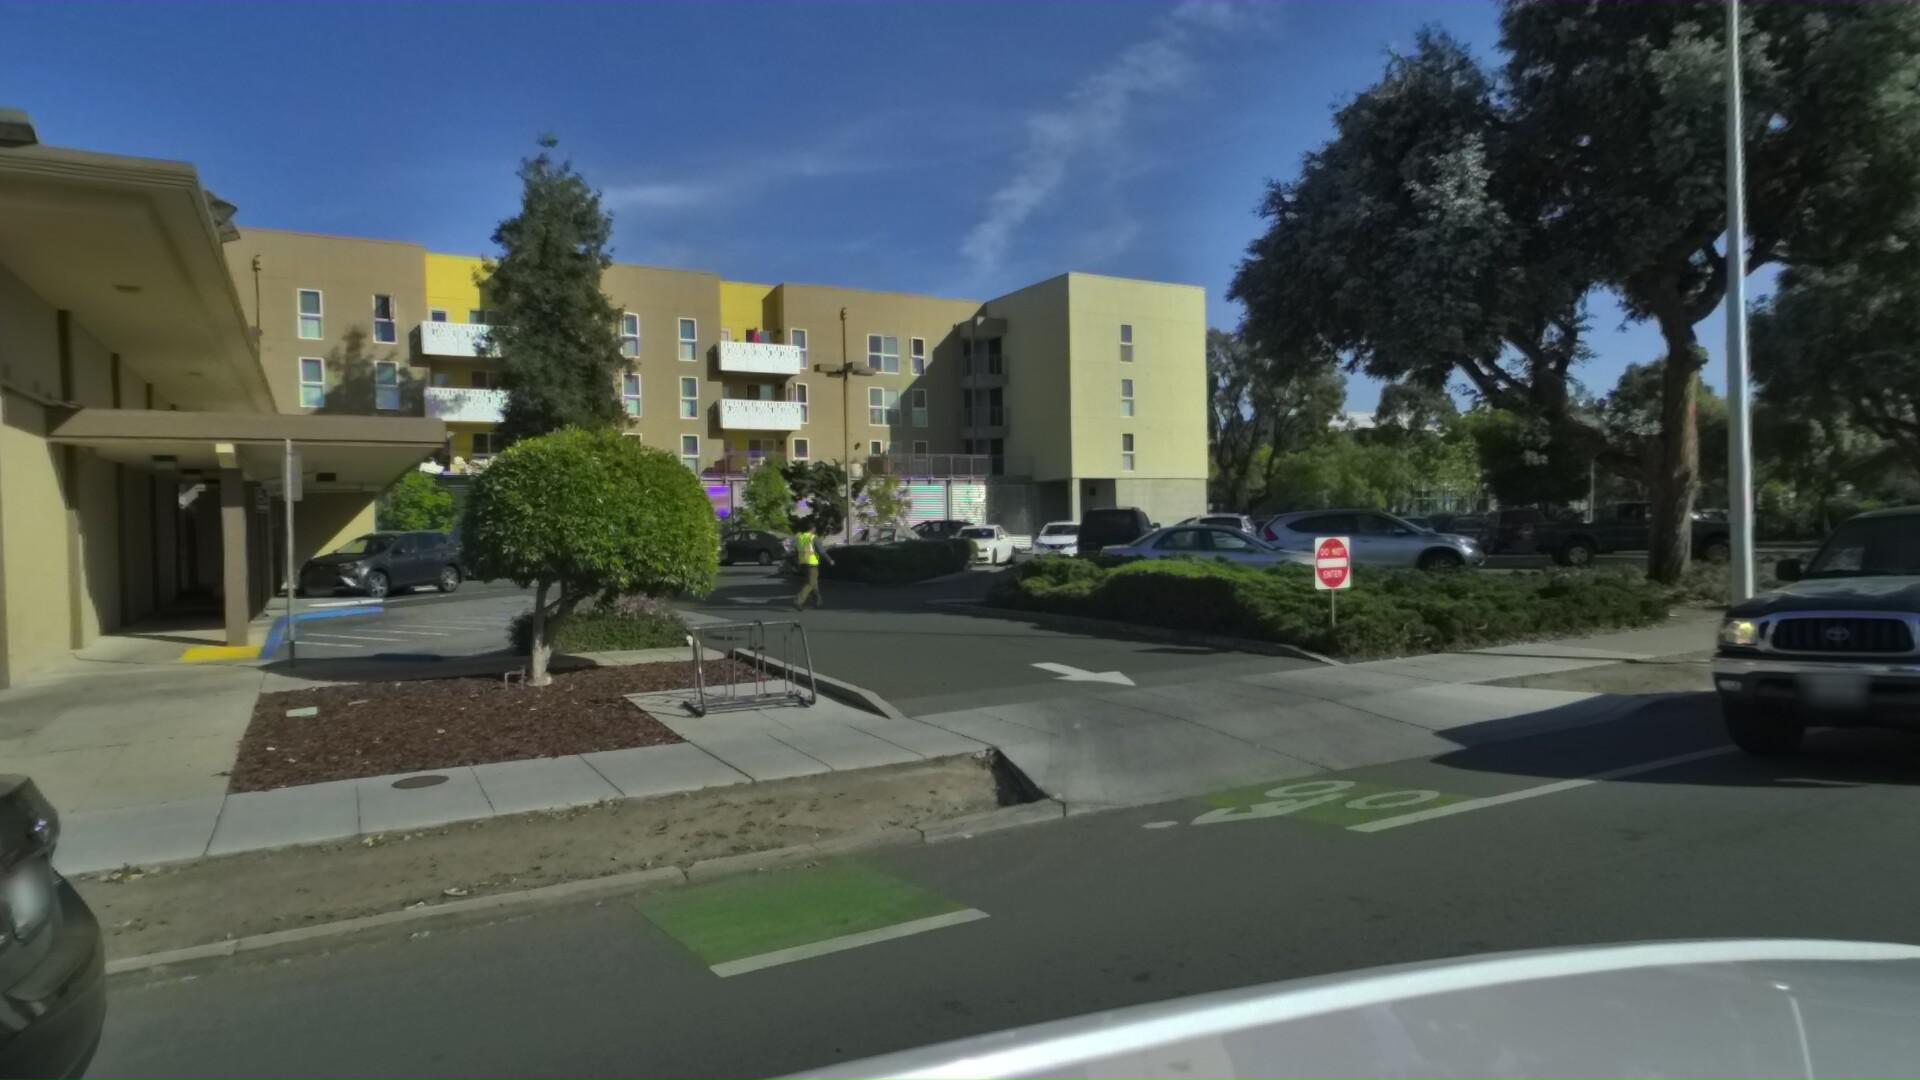car: (1631, 440, 1920, 806), (1101, 513, 1360, 603), (1258, 496, 1501, 583), (1506, 489, 1756, 564), (294, 526, 483, 603)
